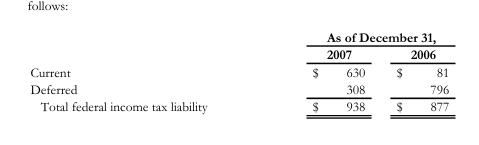table: (29, 29, 448, 113)
table column: (29, 29, 259, 113), (259, 29, 379, 113), (379, 29, 448, 113)
table column header: (29, 29, 448, 62)
table row: (29, 62, 448, 80), (29, 45, 448, 62), (29, 80, 448, 97), (29, 29, 448, 45), (29, 97, 448, 113)
table spanning cell: (259, 29, 448, 45)
